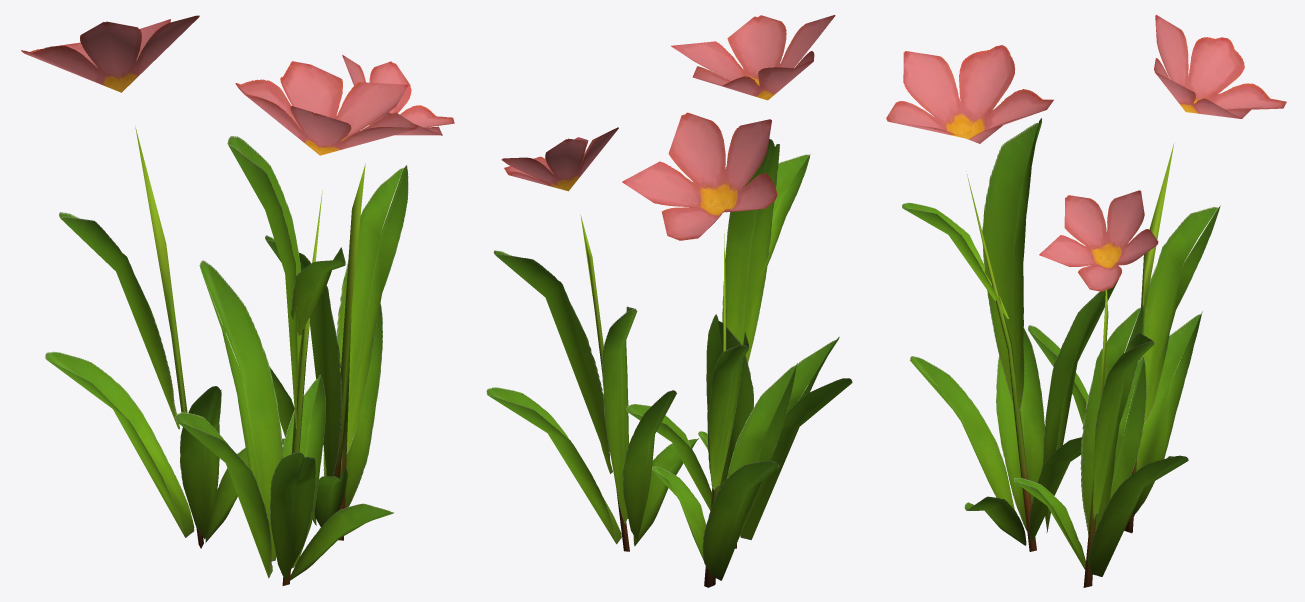
File: hias-bunga-1.glb
3 renders of one model, left to right at view 1: azimuth 30°, elevation 25°; view 2: azimuth 150°, elevation 25°; view 3: azimuth 270°, elevation 25°, orthographic. The views are drawn at different scales.
Parts seen in each view (by area): view 1: Flower_3_Group; view 2: Flower_3_Group; view 3: Flower_3_Group.
Boxes of the visible parts, left/top/right/bottom form: Flower_3_Group: left=21, top=15, right=454, bottom=585; Flower_3_Group: left=486, top=15, right=852, bottom=587; Flower_3_Group: left=886, top=14, right=1286, bottom=587.
Size of the model in its own units: 0.4346 by 0.6039 by 0.456.
Materials: 2 (2 with a texture image).
